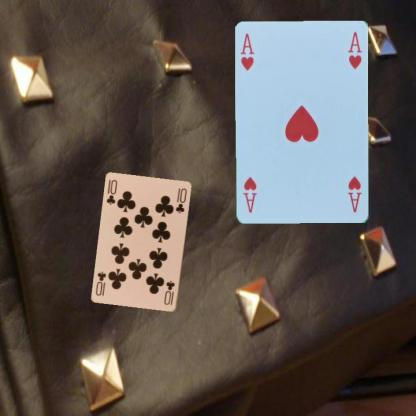10c: (162, 278, 176, 306), (104, 178, 118, 206)
Ah: (238, 30, 256, 72), (345, 173, 363, 214)
